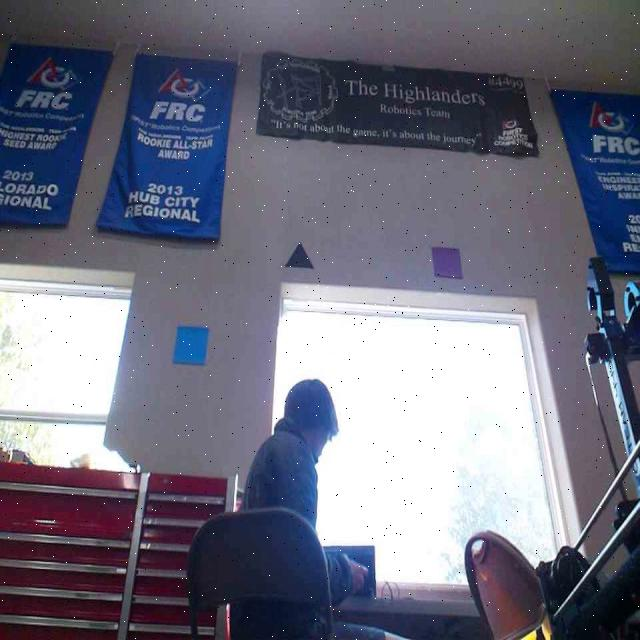square_blue: (169, 324, 210, 364)
square_purple: (429, 246, 466, 276)
triangle_black: (284, 242, 314, 268)
